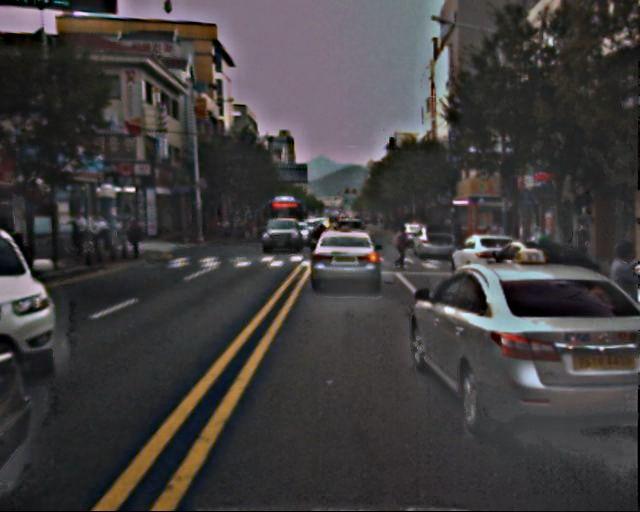person: (73, 202, 151, 263), (602, 243, 640, 359), (571, 224, 592, 275), (391, 223, 411, 271)
